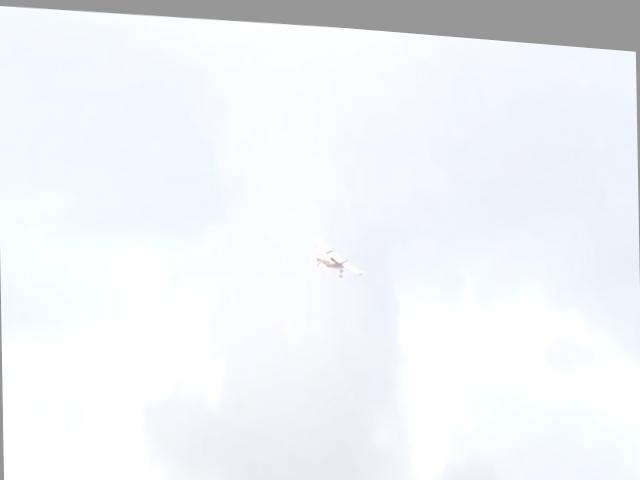plane: (311, 230, 363, 276)
